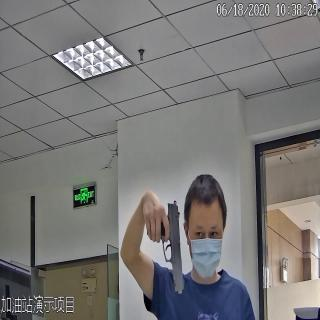gun: (145, 197, 186, 293)
